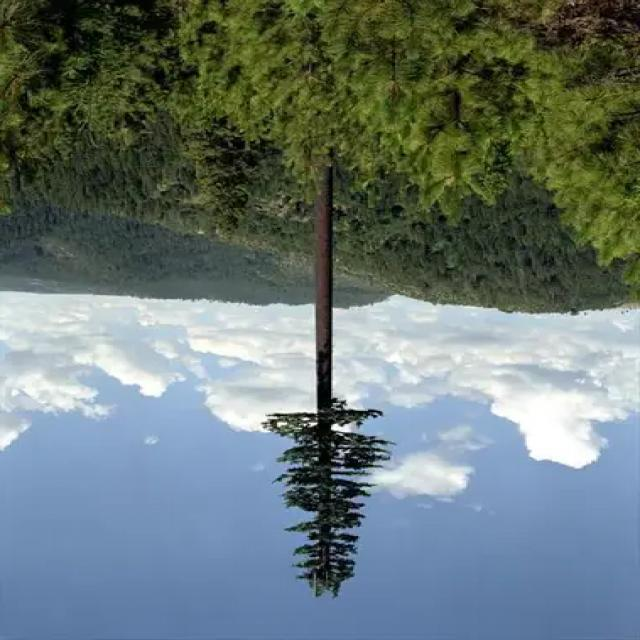tree: (256, 202, 384, 612), (333, 0, 534, 214), (550, 2, 640, 276), (36, 0, 152, 142)
